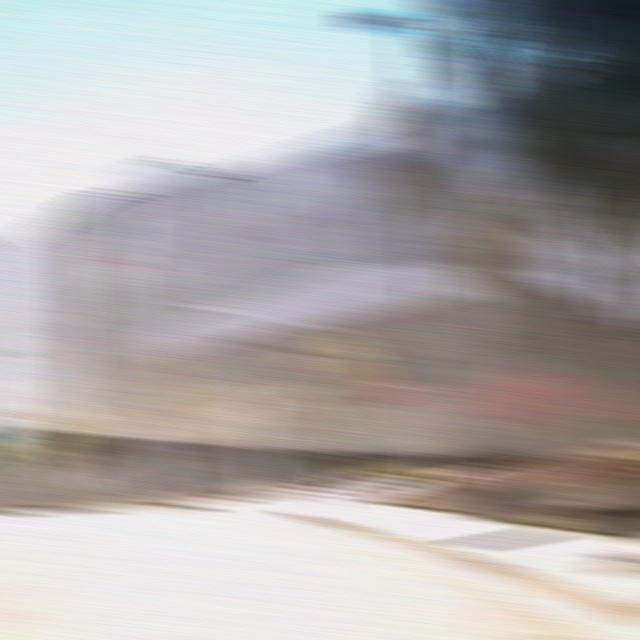stop: (362, 367, 411, 410)
